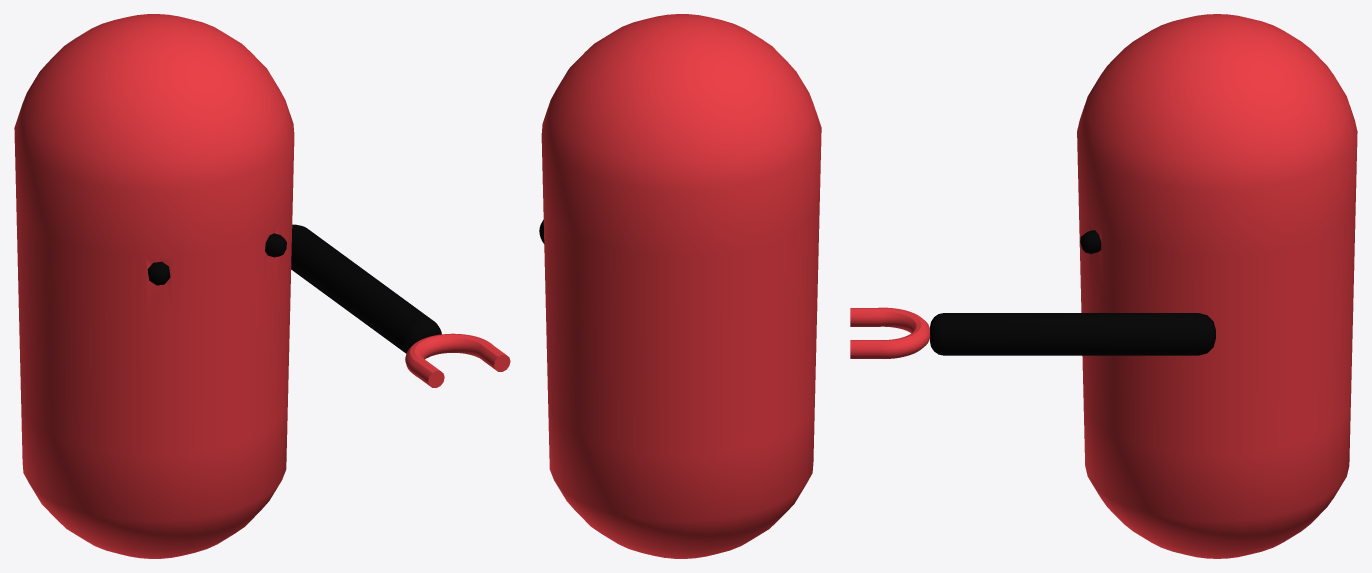
File: robot.glb
3 renders of one model, left to right at view 1: azimuth 30°, elevation 25°; view 2: azimuth 150°, elevation 25°; view 3: azimuth 270°, elevation 25°, orthographic.
Visible parts, largest first — view 1: robot_body, robot_arm, robot_hand, robot_eye; view 2: robot_body; view 3: robot_body, robot_arm, robot_hand.
Boxes of the visible parts, left/top/right/bottom form: robot_body: left=14, top=14, right=294, bottom=558; robot_arm: left=291, top=224, right=441, bottom=353; robot_hand: left=405, top=333, right=510, bottom=387; robot_eye: left=147, top=233, right=286, bottom=285; robot_body: left=541, top=14, right=821, bottom=558; robot_body: left=1077, top=14, right=1357, bottom=558; robot_arm: left=930, top=313, right=1215, bottom=355; robot_hand: left=850, top=307, right=930, bottom=358.
Bounding box in the file's own units: 1.19 × 2 × 1.77.
